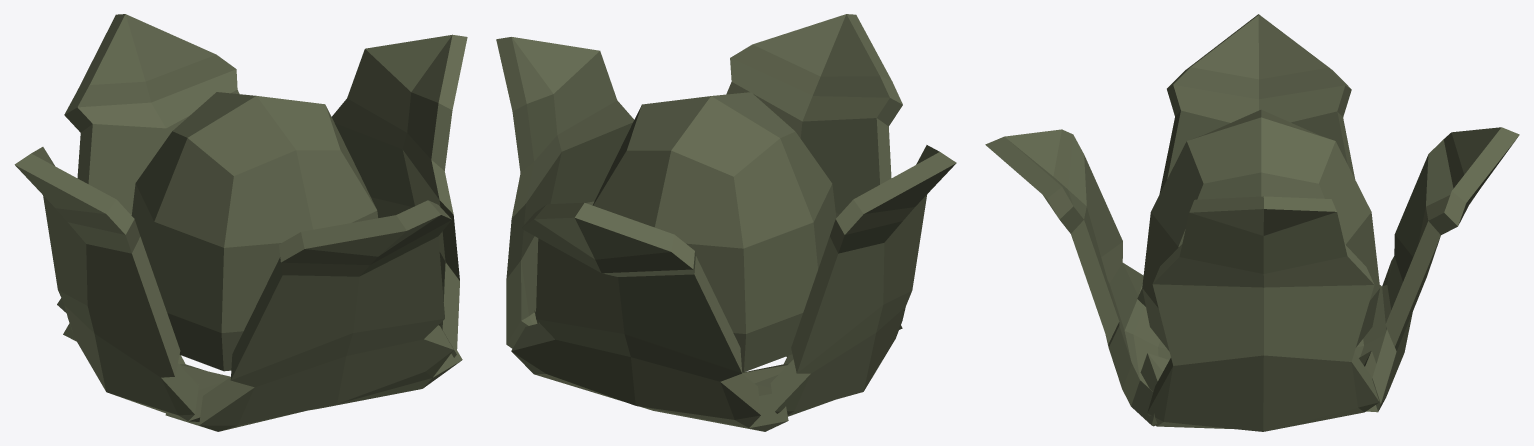
File: lettuce_3.gltf
3 views of the same model, side by side, from view 1: azimuth 30°, elevation 25°; view 2: azimuth 150°, elevation 25°; view 3: azimuth 270°, elevation 25° (orthographic). The views are drawn at different scales.
Visible parts, largest first — view 1: lettuce_3; view 2: lettuce_3; view 3: lettuce_3.
Part boxes in pixels (x1,y1,x2,y2): lettuce_3: [14, 14, 467, 431]; lettuce_3: [496, 14, 956, 431]; lettuce_3: [985, 14, 1519, 431].
Size of the model in its own units: 0.6232 by 0.3816 by 0.6764.
Materials: 1 (1 with a texture image).
